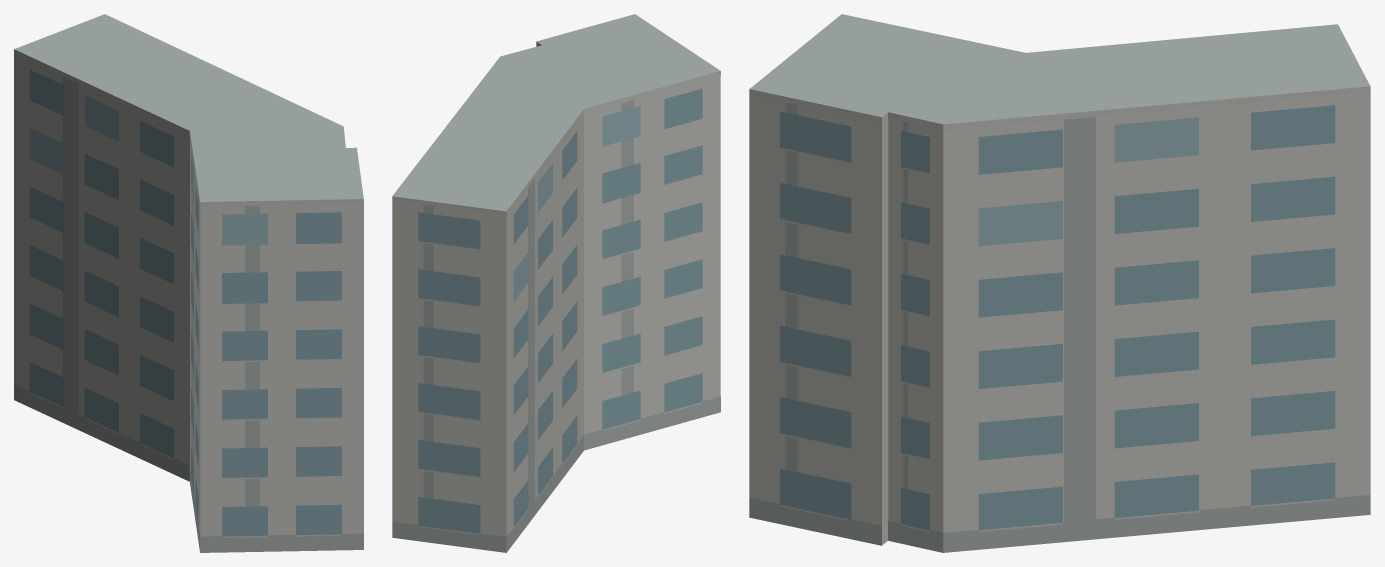
Rendered from survey-upis-33025671.glb.
The picture shows the model from 3 angles, left to right: view 1: azimuth 30°, elevation 25°; view 2: azimuth 150°, elevation 25°; view 3: azimuth 270°, elevation 25°; orthographic projection. The views are drawn at different scales.
Parts seen in each view (by area): view 1: survey-upis-33025671.tmp; view 2: survey-upis-33025671.tmp; view 3: survey-upis-33025671.tmp.
Boxes of the visible parts, left/top/right/bottom form: survey-upis-33025671.tmp: left=14, top=14, right=363, bottom=552; survey-upis-33025671.tmp: left=392, top=14, right=720, bottom=552; survey-upis-33025671.tmp: left=749, top=14, right=1370, bottom=552.
Size of the model in its own units: 9.51 by 17.2 by 22.6.
